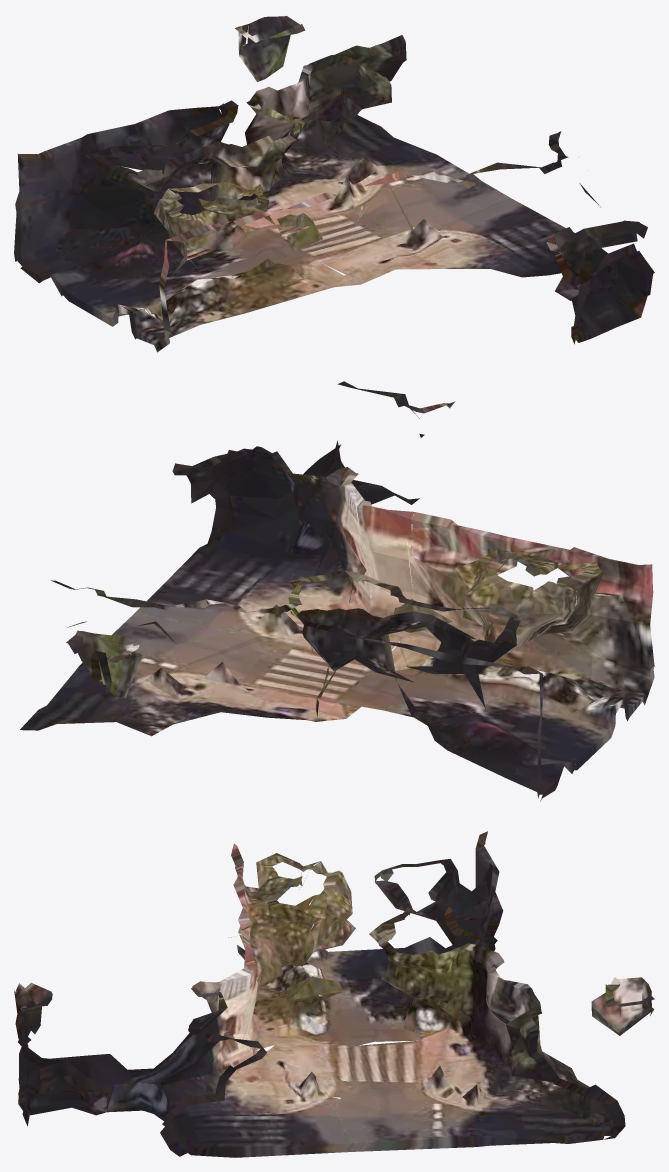
The picture shows the model from 3 angles, top to bottom: view 1: azimuth 30°, elevation 25°; view 2: azimuth 150°, elevation 25°; view 3: azimuth 270°, elevation 25°; orthographic projection. The views are drawn at different scales.
Parts seen in each view (by area): view 1: Mesh_0; view 2: Mesh_0; view 3: Mesh_0.
Part boxes in pixels (box(x1,y1,x2,y2)): Mesh_0: box(14, 16, 654, 352); Mesh_0: box(20, 381, 654, 801); Mesh_0: box(14, 831, 654, 1157).
Size of the model in its own units: 31.66 by 8.34 by 38.69.
1 material, 1 textured.
